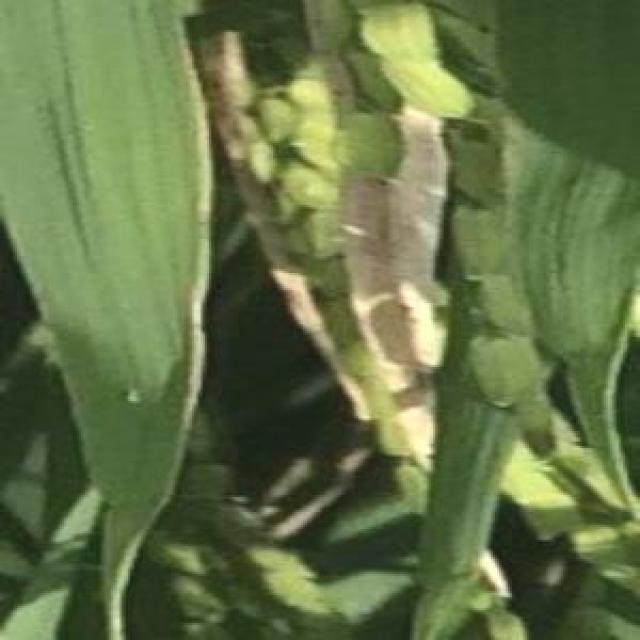Bacterial_Leaf_Blight: (24, 26, 209, 418)
